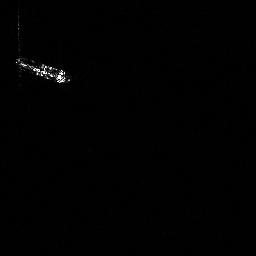ship: (11, 53, 75, 87)
